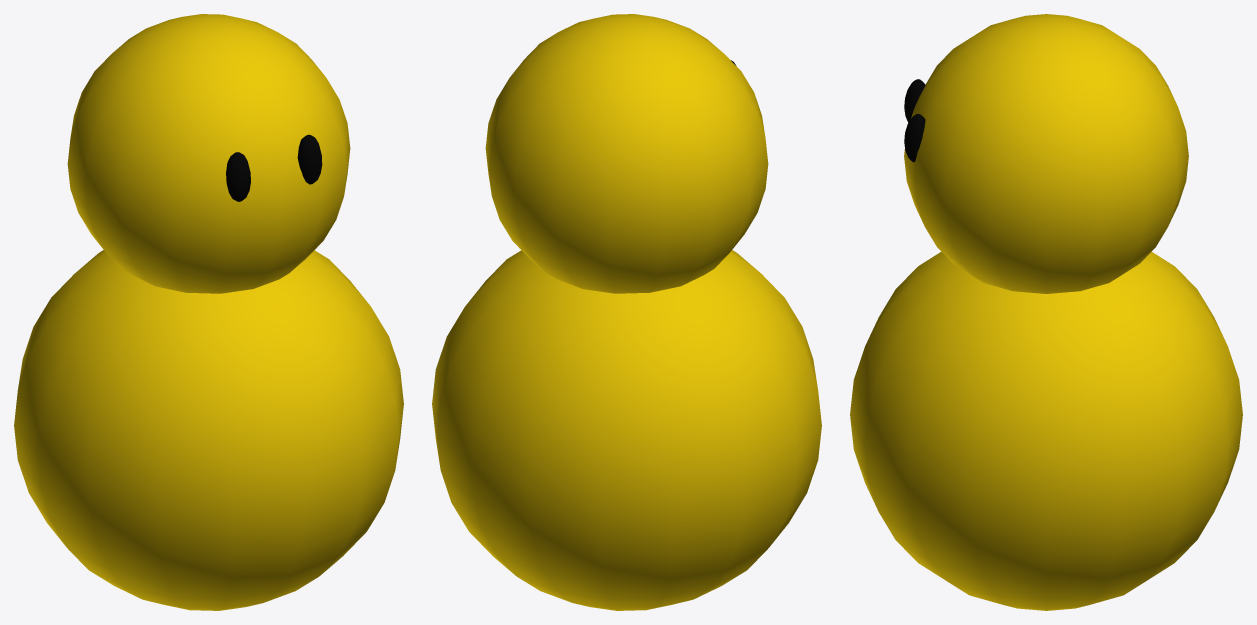
Rendered from CANARD.fbx.
3 views of the same model, side by side, from view 1: azimuth 30°, elevation 25°; view 2: azimuth 150°, elevation 25°; view 3: azimuth 270°, elevation 25° (orthographic).
Visible parts, largest first — view 1: corps, head, reye, leye; view 2: corps, head; view 3: corps, head, leye.
Part boxes in pixels (bbox=[...]): corps: bbox=[14, 250, 403, 610]; head: bbox=[67, 14, 350, 293]; reye: bbox=[226, 152, 250, 201]; leye: bbox=[297, 134, 322, 184]; corps: bbox=[432, 250, 821, 610]; head: bbox=[485, 14, 768, 293]; corps: bbox=[850, 251, 1242, 610]; head: bbox=[904, 14, 1188, 293]; leye: bbox=[904, 114, 925, 162].
Size of the model in its own units: 318 by 505 by 318.
